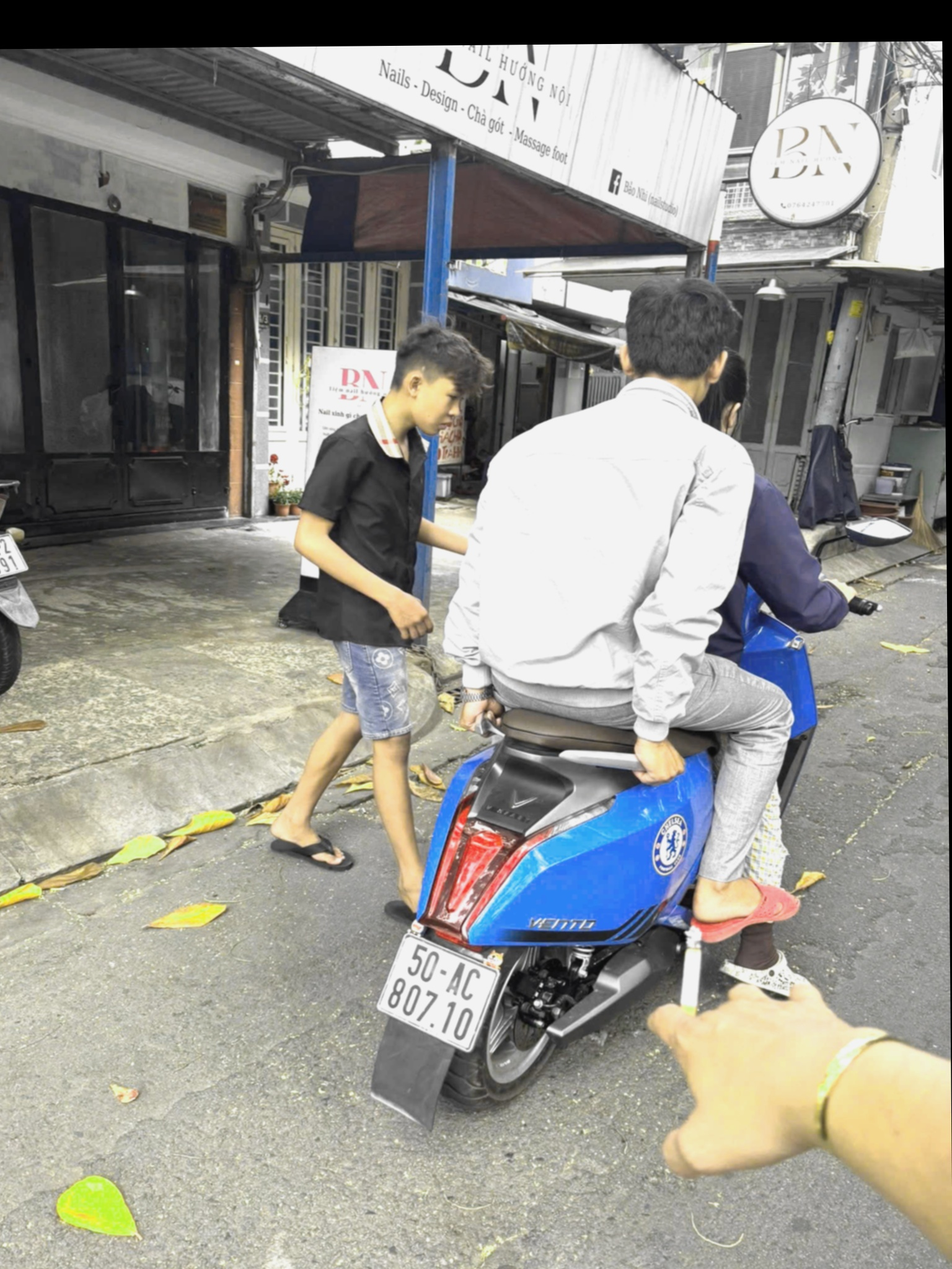Bien-so: (375, 889, 488, 1005), (0, 490, 45, 546)
